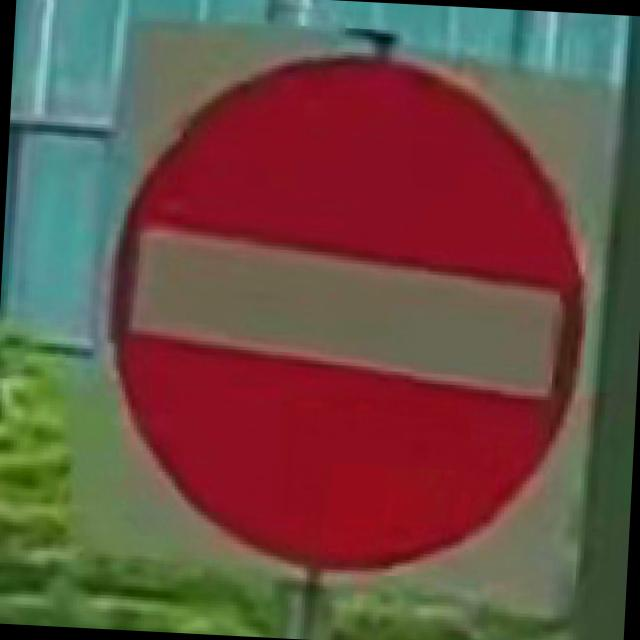noentry_sign: (85, 23, 610, 593)
